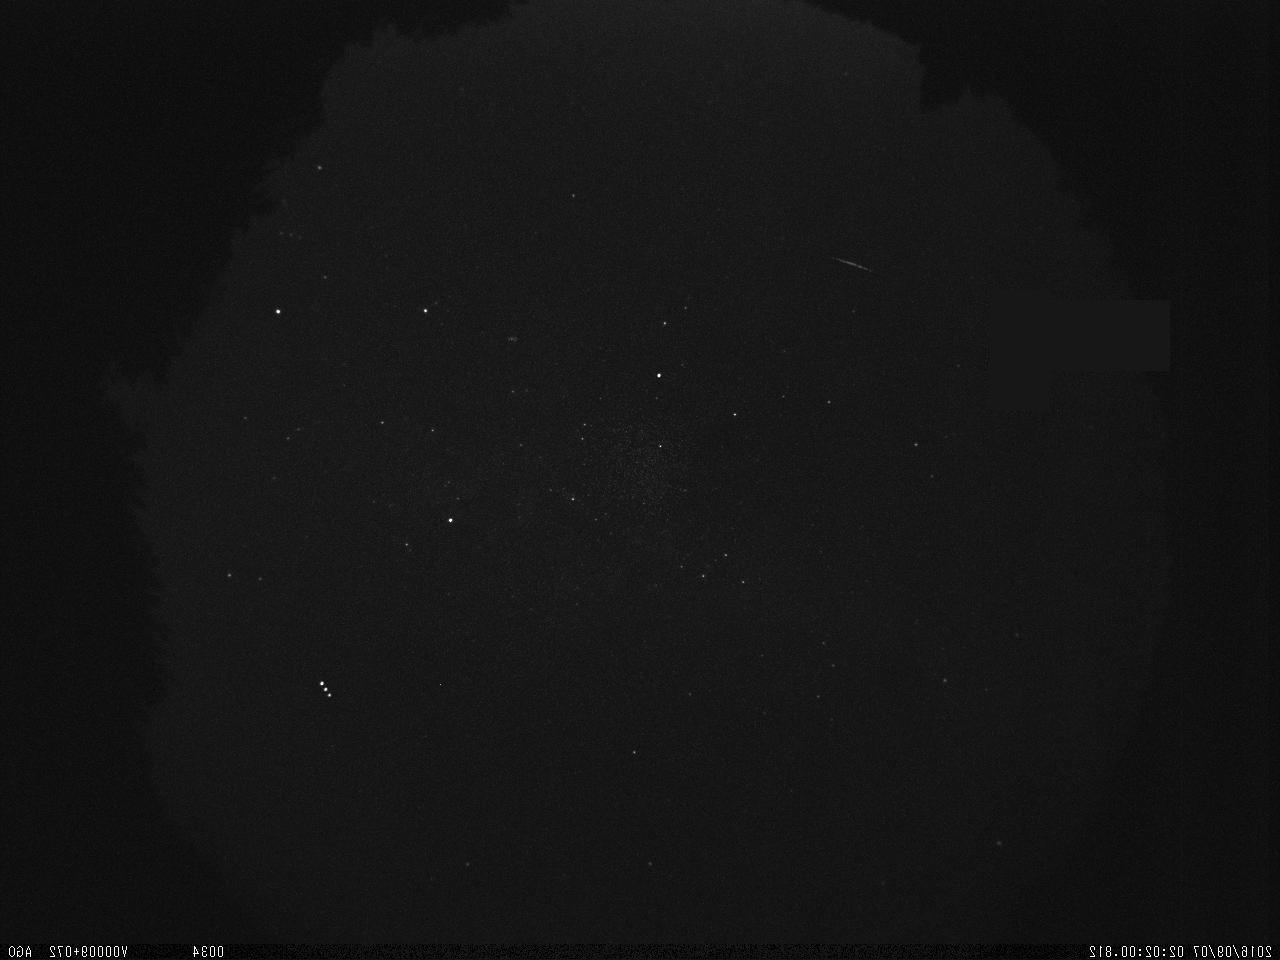meteor: (809, 246, 887, 280)
satelite: (312, 673, 343, 709)
